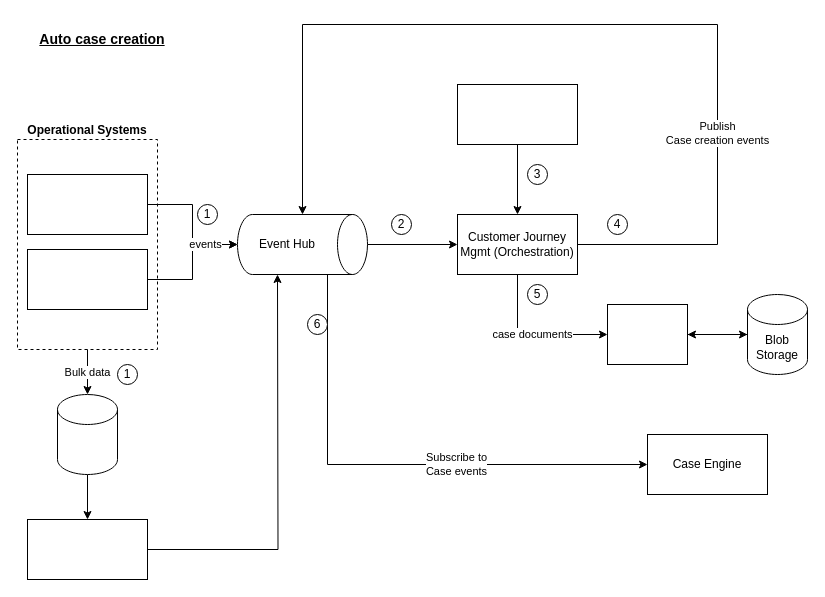
The diagram is 825 pixels wide and 597 high, and some of its shapes have lost their labels. Here are the shapes that lost their labels. From the top down, the centre of each, then its label:
point (517, 114): Rule Engine
point (87, 204): Call Center System
point (87, 279): Complaint Handling System
point (647, 334): Storage API
point (87, 434): Raw Data
point (87, 549): Batch Processing
